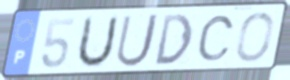5: (39, 17, 76, 70)
C: (195, 14, 237, 63)
D: (154, 12, 195, 67)
O: (234, 10, 276, 64)
U: (114, 11, 162, 69), (73, 13, 121, 70)
